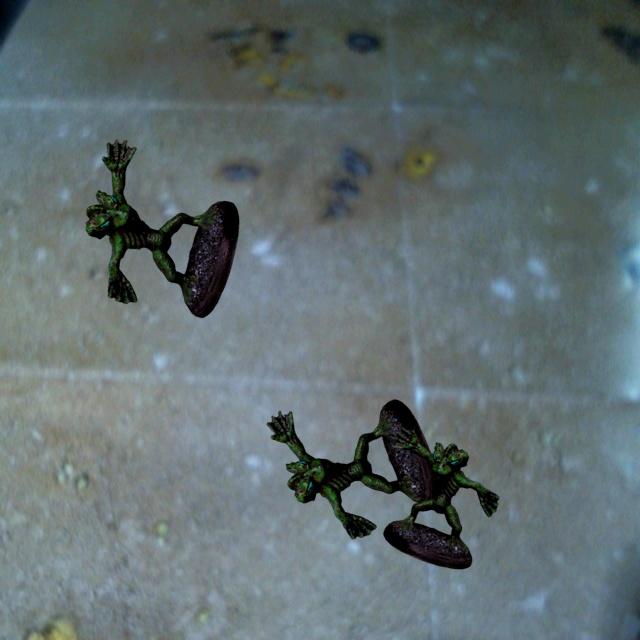pieza_juego: (85, 139, 238, 317), (267, 399, 438, 539), (383, 427, 499, 569)
